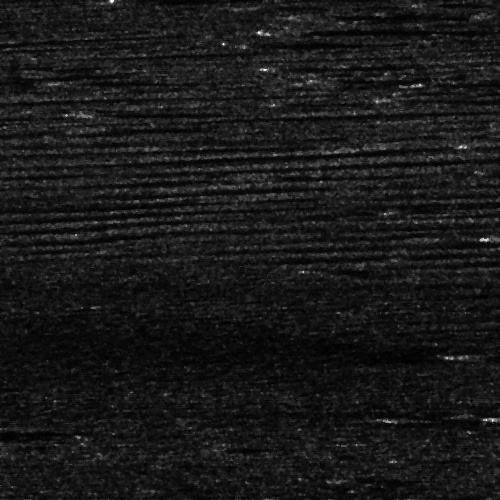object: (415, 351, 488, 356), (491, 229, 500, 236), (496, 414, 500, 419)
shadow: (0, 427, 81, 434), (451, 351, 500, 356), (0, 435, 65, 438)
